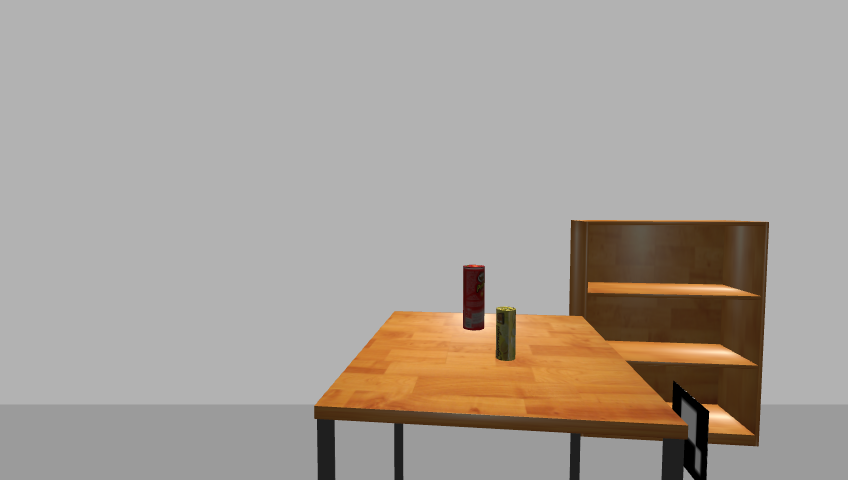aruco marker: (667, 380, 715, 480)
biscuits pack: (493, 307, 519, 363)
bookshelf: (567, 214, 765, 451)
dinner table: (310, 299, 694, 480)
pringles can: (461, 262, 486, 333)
